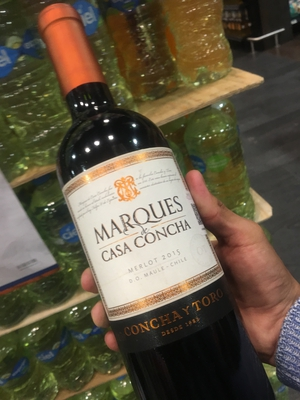marques de casa concha merlot: (37, 8, 249, 380)
